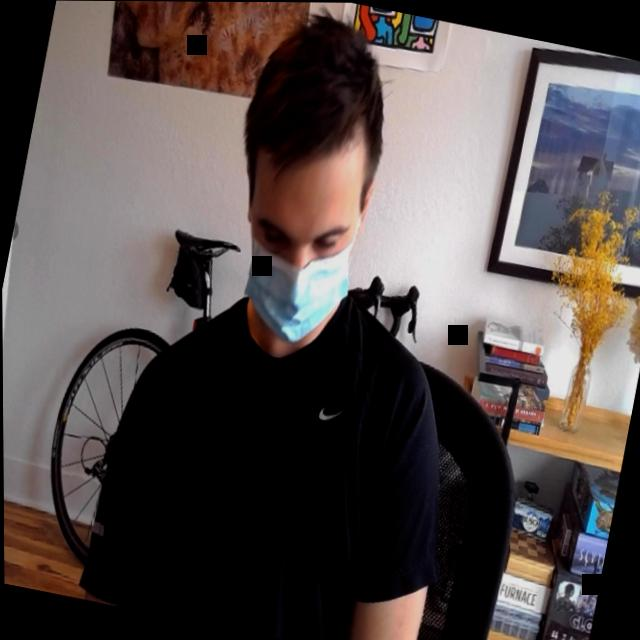Mask: (222, 120, 379, 354)
